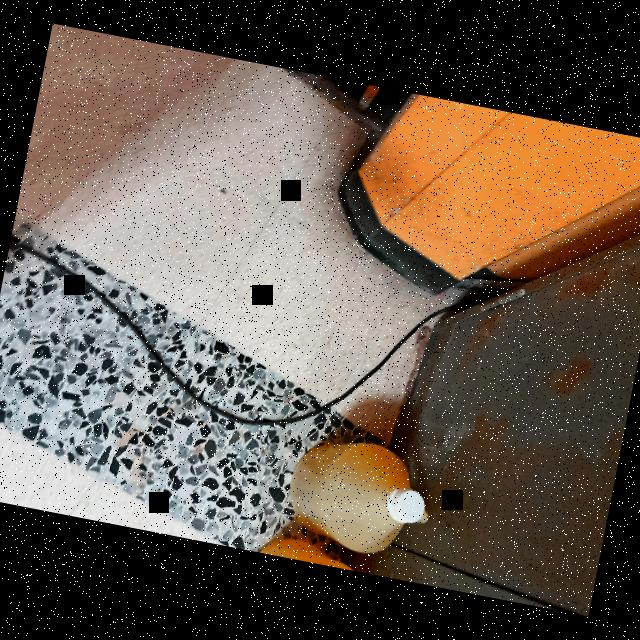chemical_plastic_gallon: (276, 408, 450, 562)
